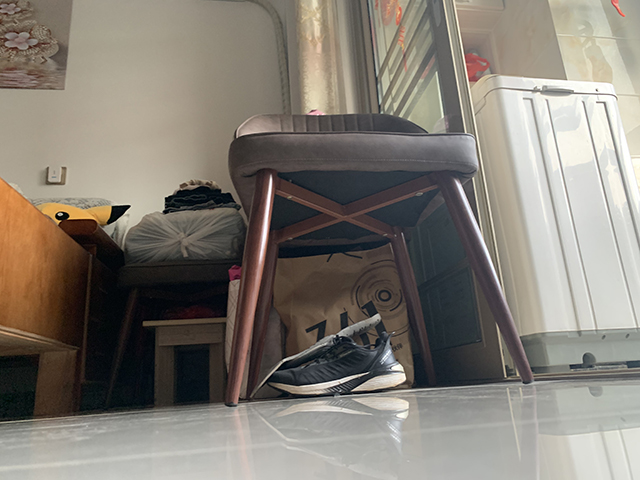stool: (216, 111, 537, 409), (97, 259, 243, 411), (142, 316, 227, 407)
